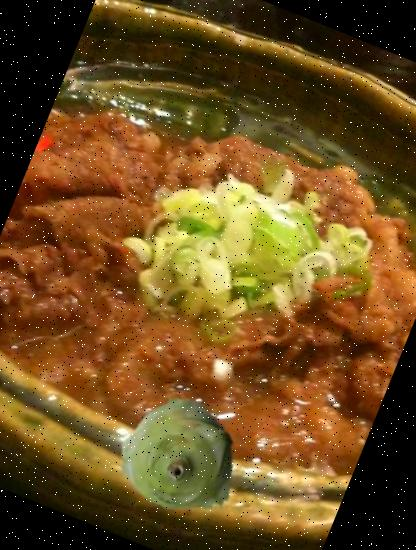Kohlrabi: (99, 381, 260, 542)
